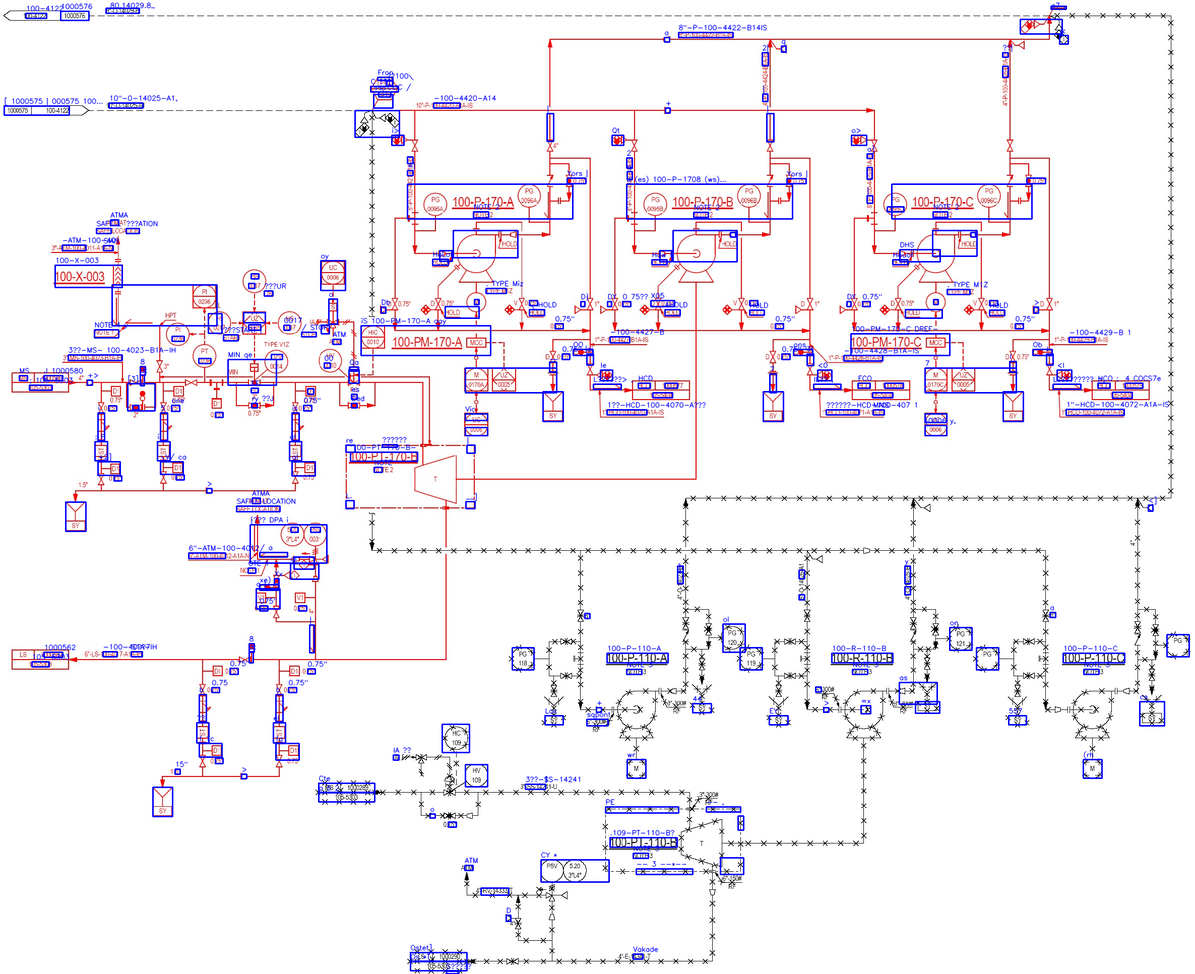Bomba: (456, 233, 504, 286), (674, 232, 721, 285), (915, 232, 959, 286), (465, 291, 487, 312)
Compressor: (573, 303, 595, 316), (598, 305, 619, 315), (290, 554, 301, 564), (239, 771, 249, 782), (310, 574, 320, 584), (662, 106, 672, 115), (662, 35, 672, 44), (897, 249, 907, 258), (438, 249, 447, 258), (85, 378, 94, 386), (205, 487, 214, 495), (969, 229, 977, 238), (509, 231, 518, 238), (728, 231, 737, 238), (658, 249, 666, 256)
Conexão: (792, 347, 814, 357), (248, 641, 257, 665), (259, 583, 281, 592), (1032, 348, 1054, 356), (139, 365, 146, 388), (139, 390, 146, 413), (767, 368, 780, 377)
Instrumento: (241, 268, 267, 294), (277, 310, 303, 336), (207, 310, 232, 336), (192, 343, 217, 368), (288, 444, 302, 459), (304, 462, 316, 474)
Motor: (924, 291, 948, 313)
Outro: (412, 452, 460, 504), (760, 389, 784, 423), (1001, 389, 1024, 424), (63, 499, 87, 532), (150, 785, 174, 817), (542, 389, 564, 422), (735, 183, 762, 209), (370, 76, 398, 101), (241, 310, 267, 336), (360, 324, 386, 350), (491, 367, 517, 393), (950, 366, 976, 392), (320, 259, 345, 285), (463, 367, 489, 392), (883, 191, 908, 217), (517, 183, 541, 210), (192, 284, 217, 309), (165, 322, 190, 347), (923, 367, 948, 392), (923, 412, 948, 437), (464, 413, 489, 437), (643, 192, 668, 216), (976, 183, 1000, 208), (423, 193, 448, 216), (1042, 369, 1073, 381), (112, 263, 124, 289), (805, 370, 833, 380), (465, 337, 487, 349), (1032, 304, 1053, 316), (925, 337, 947, 348), (838, 303, 858, 315), (156, 443, 171, 458), (391, 134, 409, 146), (94, 443, 108, 458), (196, 725, 210, 740), (850, 134, 867, 146), (379, 304, 399, 314), (596, 370, 614, 381), (272, 726, 286, 740), (612, 134, 627, 147), (794, 304, 813, 314), (172, 384, 185, 398), (293, 591, 307, 604), (773, 43, 789, 54), (638, 303, 651, 316), (110, 385, 122, 398), (210, 398, 223, 410), (304, 385, 317, 397), (255, 591, 267, 604), (420, 304, 432, 316), (720, 303, 732, 315), (288, 665, 300, 677), (1013, 40, 1026, 51), (212, 665, 223, 677), (211, 745, 223, 756), (287, 745, 299, 756), (109, 463, 120, 474), (172, 462, 183, 473), (504, 304, 515, 315), (879, 304, 890, 315), (964, 304, 975, 315), (328, 302, 339, 312)
TrocadordeCalor: (248, 361, 260, 373)
Válvula: (353, 107, 402, 138), (346, 364, 361, 386), (307, 546, 321, 567), (894, 296, 904, 313), (783, 173, 794, 188), (271, 573, 282, 588), (274, 681, 284, 697), (326, 318, 340, 329), (155, 359, 165, 374), (247, 377, 262, 387), (653, 296, 663, 311), (238, 655, 253, 665), (291, 469, 300, 485), (434, 295, 443, 311), (1005, 137, 1014, 153), (271, 604, 280, 620), (247, 401, 262, 410), (545, 138, 554, 153), (565, 173, 574, 188), (766, 173, 775, 188), (274, 754, 283, 769), (850, 296, 858, 312), (159, 402, 168, 416), (411, 139, 420, 153), (391, 297, 400, 311), (586, 362, 595, 376), (765, 139, 774, 153), (1008, 350, 1017, 364), (198, 683, 207, 697), (97, 401, 105, 416), (546, 173, 554, 188), (870, 138, 878, 153), (1005, 173, 1013, 188), (977, 296, 985, 311), (769, 350, 777, 365), (198, 754, 206, 769), (291, 402, 300, 415), (610, 298, 619, 311), (1044, 362, 1053, 375), (128, 404, 142, 412), (159, 470, 167, 484), (183, 379, 199, 386), (347, 402, 361, 410), (518, 297, 526, 311), (548, 350, 556, 364), (806, 297, 814, 311), (1046, 296, 1053, 312), (631, 139, 638, 154), (806, 361, 813, 376), (129, 378, 142, 386), (1024, 174, 1032, 187), (587, 297, 594, 311), (738, 296, 745, 310), (98, 473, 105, 486)
